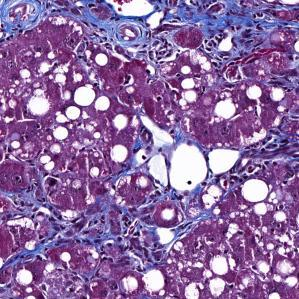fibrosis: (80, 0, 273, 61), (52, 198, 175, 256), (119, 135, 176, 167)
